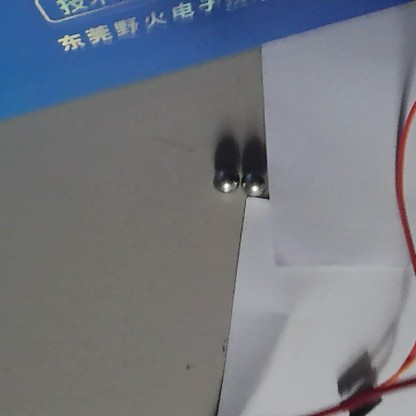ironball: (241, 168, 268, 200), (211, 165, 239, 194)
